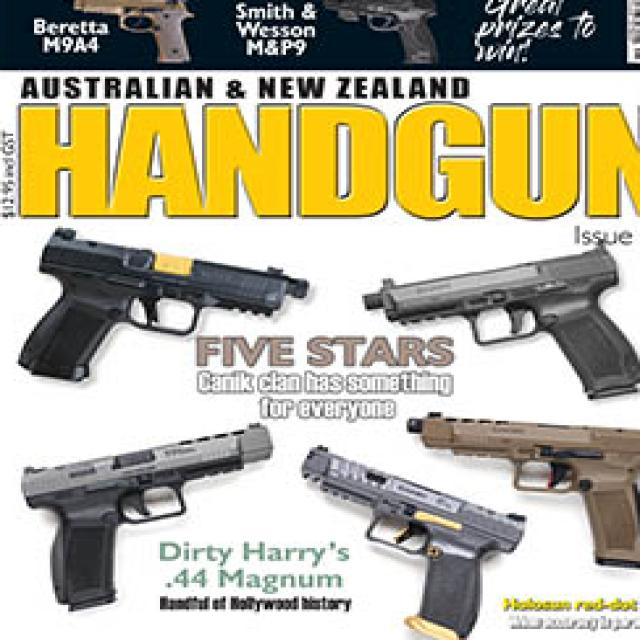Weapon: (24, 425, 270, 607), (18, 228, 307, 379), (304, 447, 522, 640), (365, 245, 640, 397), (407, 419, 640, 565)
